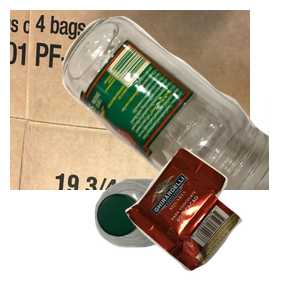cardboard: (10, 10, 250, 190)
glass: (60, 14, 300, 194)
plastic: (92, 176, 257, 300)
trash: (123, 145, 300, 300)
